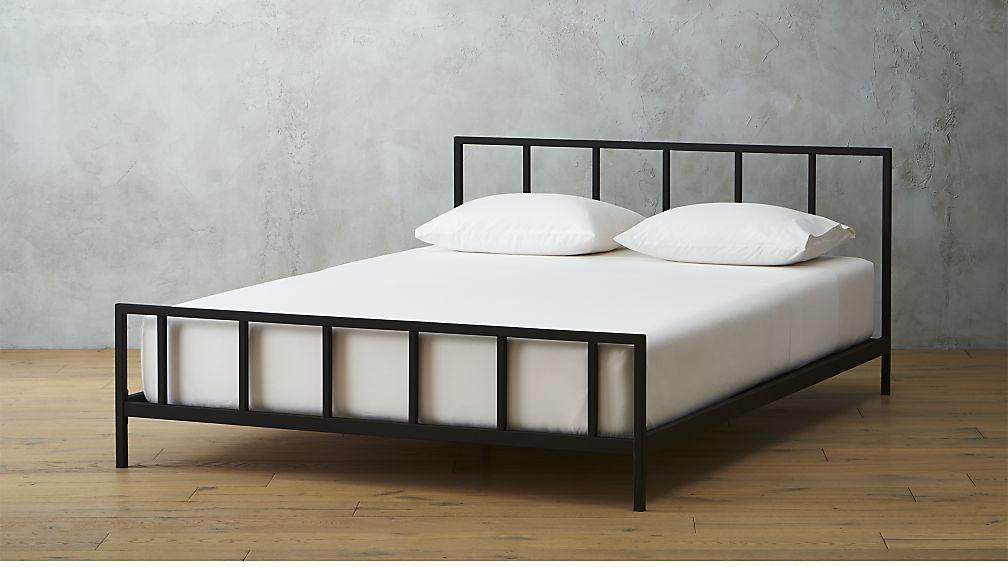bed: (83, 117, 933, 529)
